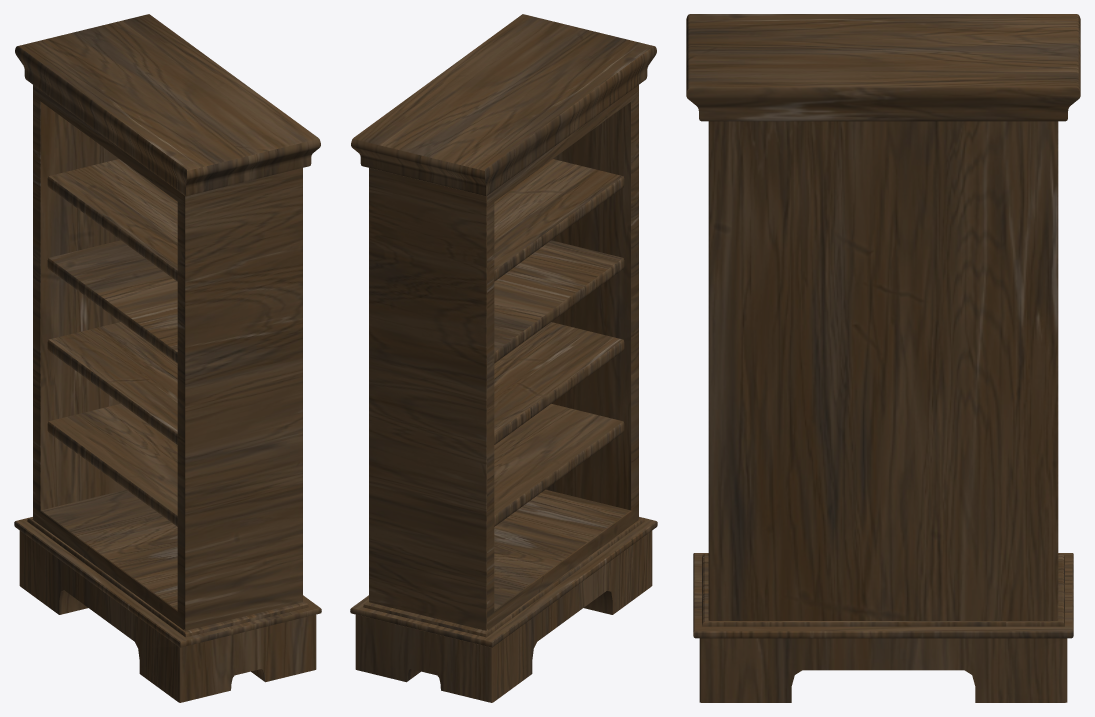
Rendered from bookcase.obj.
3 views of the same model, side by side, from view 1: azimuth 30°, elevation 25°; view 2: azimuth 150°, elevation 25°; view 3: azimuth 270°, elevation 25° (orthographic). The views are drawn at different scales.
Visible parts, largest first — view 1: bookcase.003; view 2: bookcase.003; view 3: bookcase.003.
Boxes of the visible parts, <box> form: bookcase.003: <box>14,14,321,702</box>; bookcase.003: <box>350,14,657,702</box>; bookcase.003: <box>686,14,1080,702</box>.
Bounding box in the file's own units: 1.63 × 5.88 × 3.42.
Materials: 2 (2 with a texture image).
